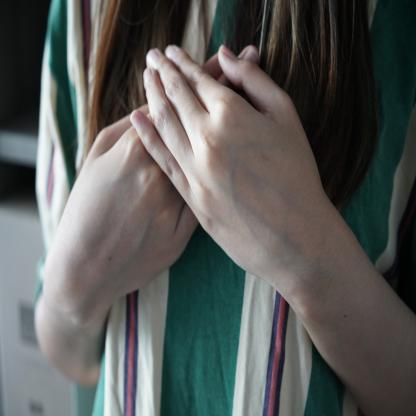Grieve: (40, 35, 354, 341)
